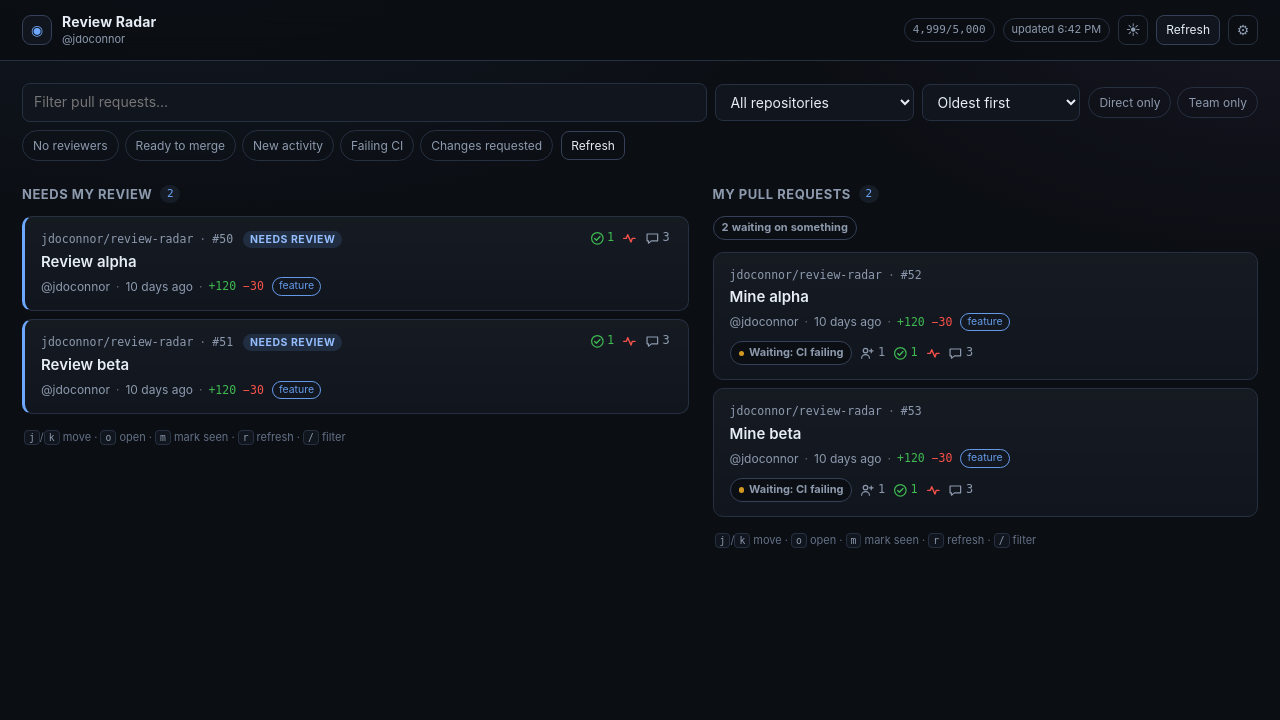
Test: App › filters both columns from the shared toolbar
Expected: the link "Review alpha" is shown, [41, 252, 137, 271]
Expected: the link "Review beta" is shown, [41, 355, 129, 374]
Type "alpha" into the search field with test id "filter-text" at (365, 102), box [22, 83, 707, 122]
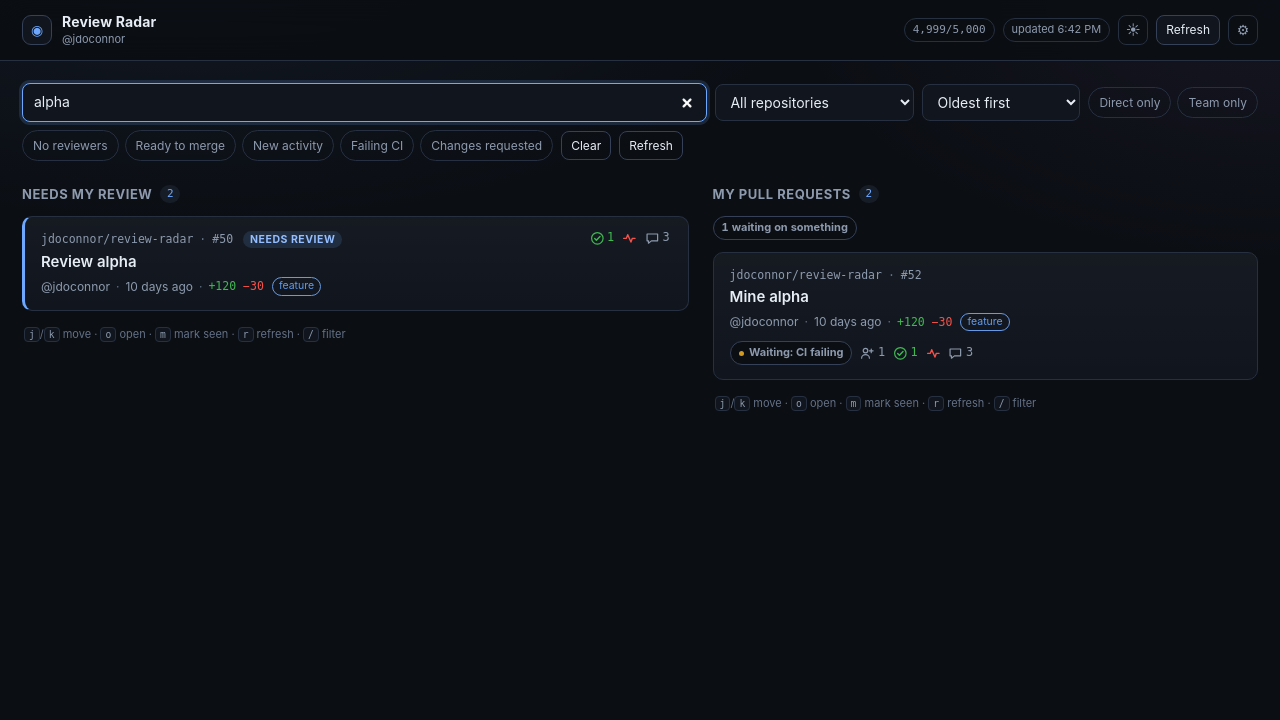
Expected: the link "Review alpha" is shown, [41, 252, 137, 271]
Expected: the link "Review beta" is gone
Expected: the link "Mine beta" is gone
